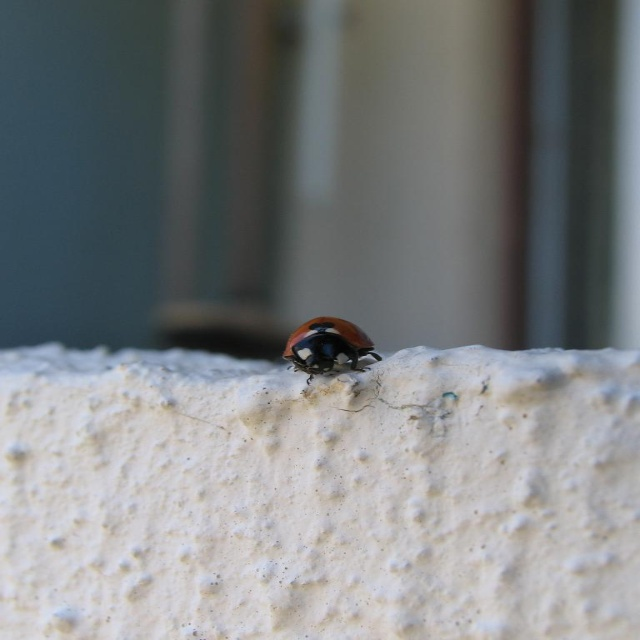Ladybug: (283, 315, 385, 385)
